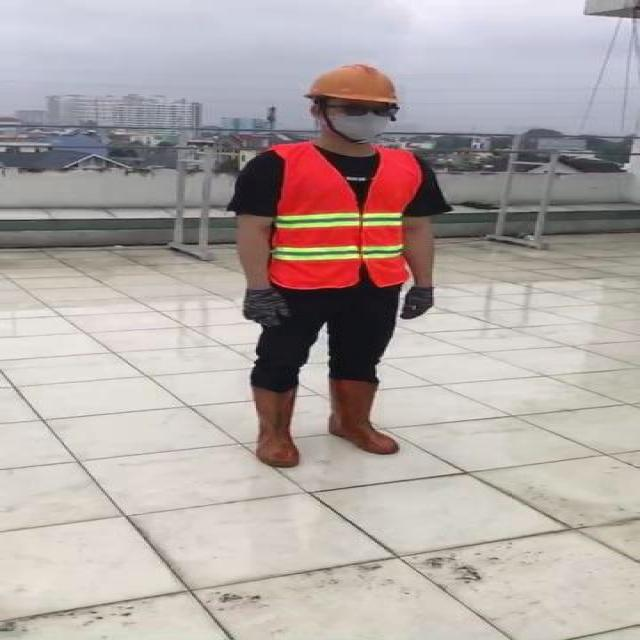boots: (326, 377, 401, 455), (245, 383, 302, 467)
face_mask: (330, 96, 402, 140)
glasses: (332, 100, 402, 120)
hand_glove: (240, 288, 292, 329), (394, 287, 434, 319)
head_helmet: (302, 60, 409, 104)
person: (228, 56, 449, 474)
vest: (269, 141, 423, 288)
